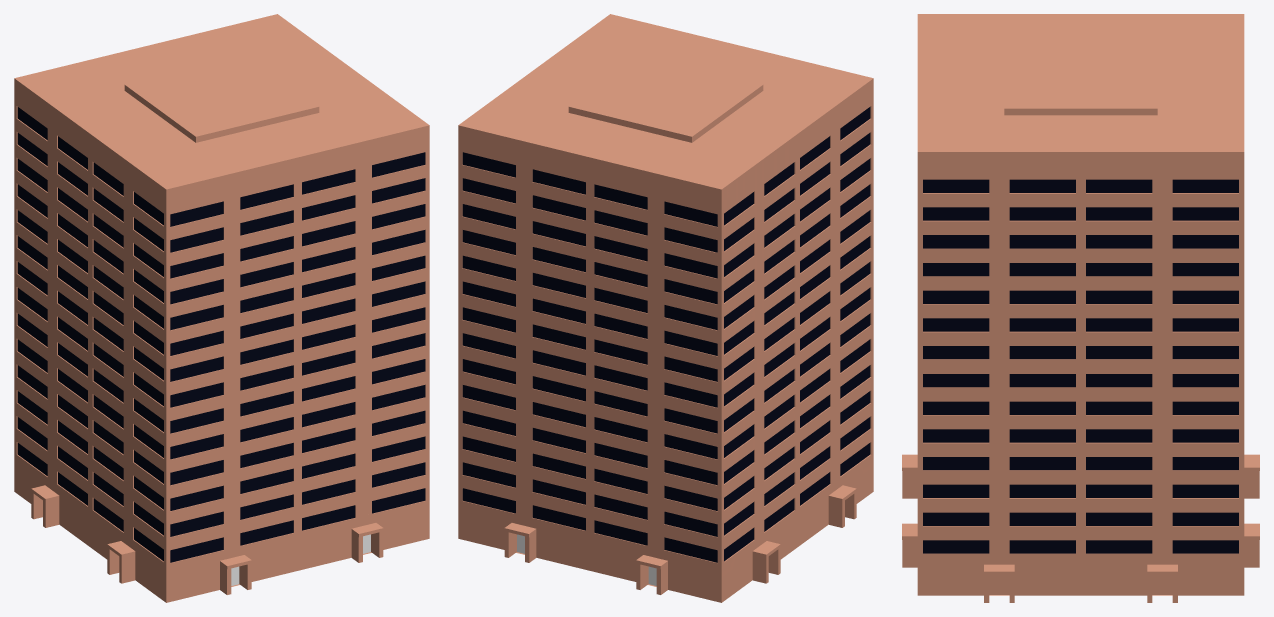
3 views of the same model, side by side, from view 1: azimuth 30°, elevation 25°; view 2: azimuth 150°, elevation 25°; view 3: azimuth 270°, elevation 25° (orthographic). The views are drawn at different scales.
Visible parts, largest first — view 1: Cube.008; view 2: Cube.008; view 3: Cube.008.
Part boxes in pixels (left/top/right/bottom): Cube.008: left=14, top=14, right=429, bottom=602; Cube.008: left=458, top=14, right=873, bottom=602; Cube.008: left=902, top=14, right=1259, bottom=602.
Bounding box in the file's own units: 884 × 1218 × 877.
